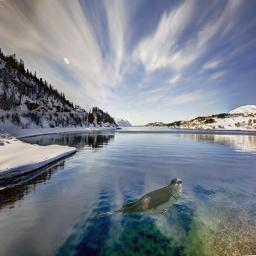Cuckoo: (88, 177, 182, 220)
